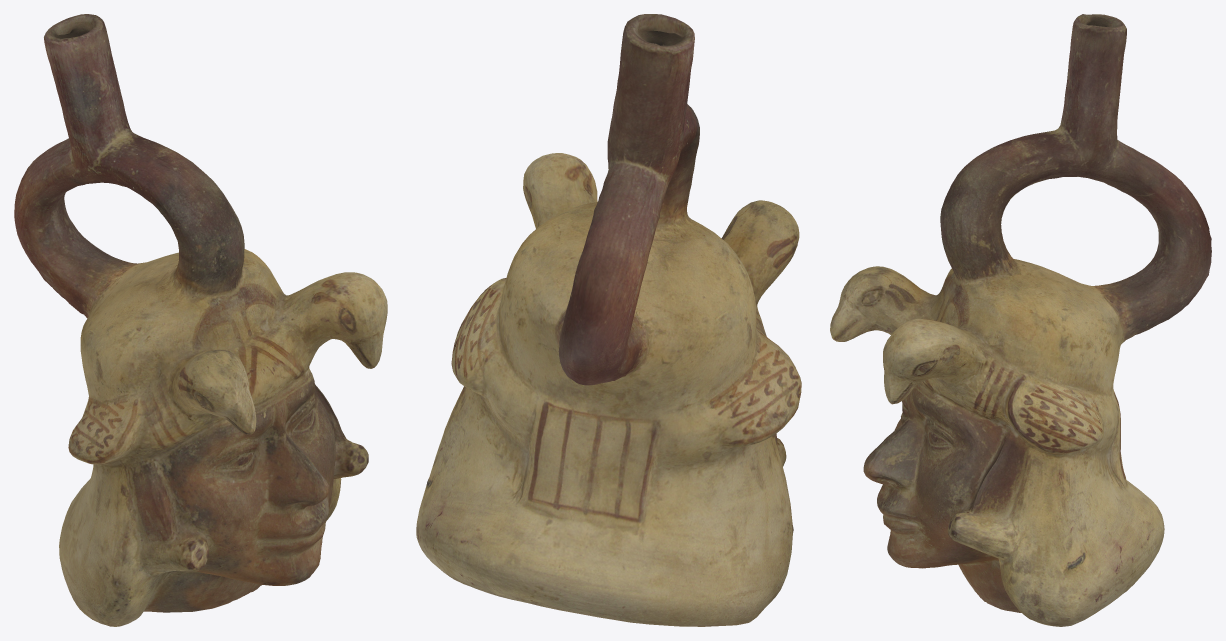
File: huaco_retrato_mochica.glb
3 views of the same model, side by side, from view 1: azimuth 30°, elevation 25°; view 2: azimuth 150°, elevation 25°; view 3: azimuth 270°, elevation 25° (orthographic). The views are drawn at different scales.
Visible parts, largest first — view 1: Model; view 2: Model; view 3: Model.
Part boxes in pixels (x1=…): Model: x1=14, y1=14, x2=387, y2=626; Model: x1=416, y1=14, x2=801, y2=626; Model: x1=830, y1=14, x2=1211, y2=626.
Bounding box in the file's own units: 0.3123 × 0.5887 × 0.3798.
Materials: 1 (1 with a texture image).
